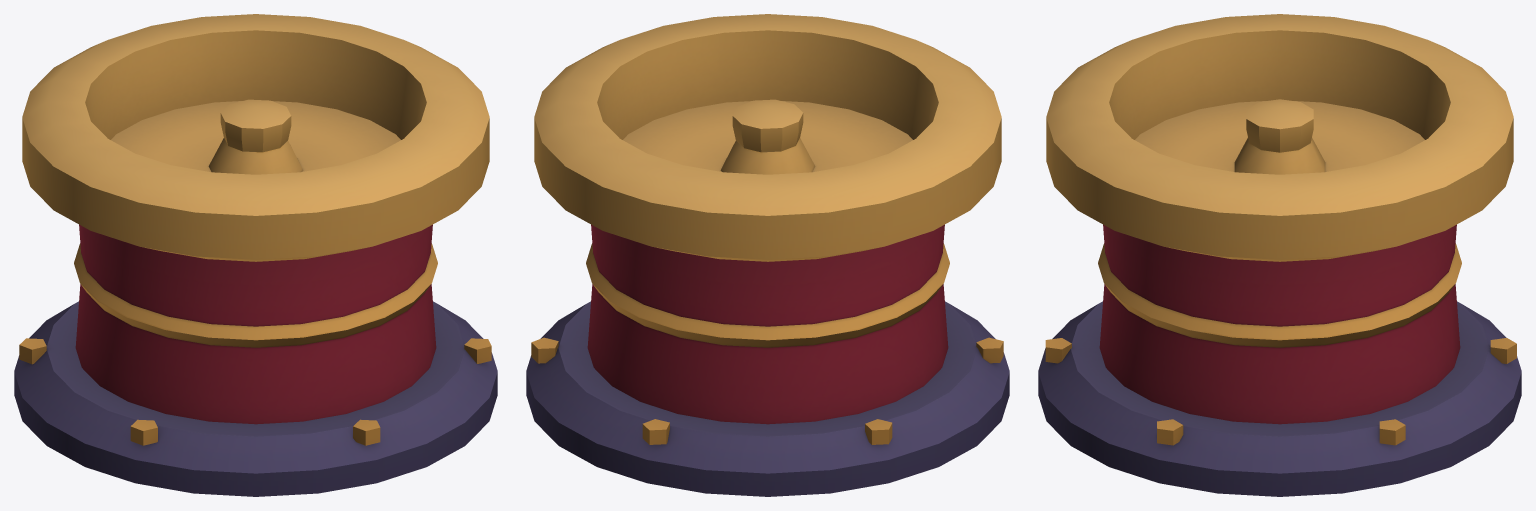
File: lamp_turret_base.fbx
The picture shows the model from 3 angles, left to right: view 1: azimuth 30°, elevation 25°; view 2: azimuth 150°, elevation 25°; view 3: azimuth 270°, elevation 25°; orthographic projection.
Visible parts, largest first — view 1: lamp_turret_base; view 2: lamp_turret_base; view 3: lamp_turret_base.
Boxes of the visible parts, left/top/right/bottom form: lamp_turret_base: left=14, top=14, right=497, bottom=496; lamp_turret_base: left=526, top=14, right=1009, bottom=496; lamp_turret_base: left=1038, top=14, right=1521, bottom=496.
Bounding box in the file's own units: 300 × 200 × 300.
Materials: 1 (1 with a texture image).
